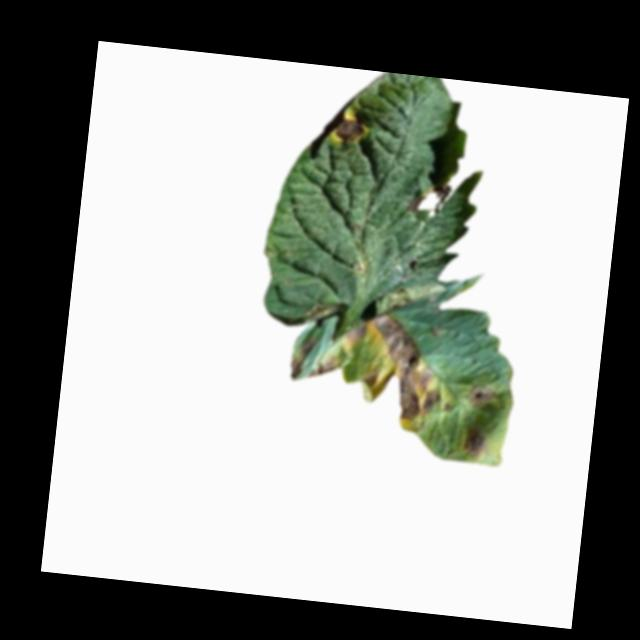Early_blight: (285, 302, 451, 434), (407, 181, 451, 219), (333, 116, 369, 148), (459, 422, 490, 459), (466, 383, 497, 412)
